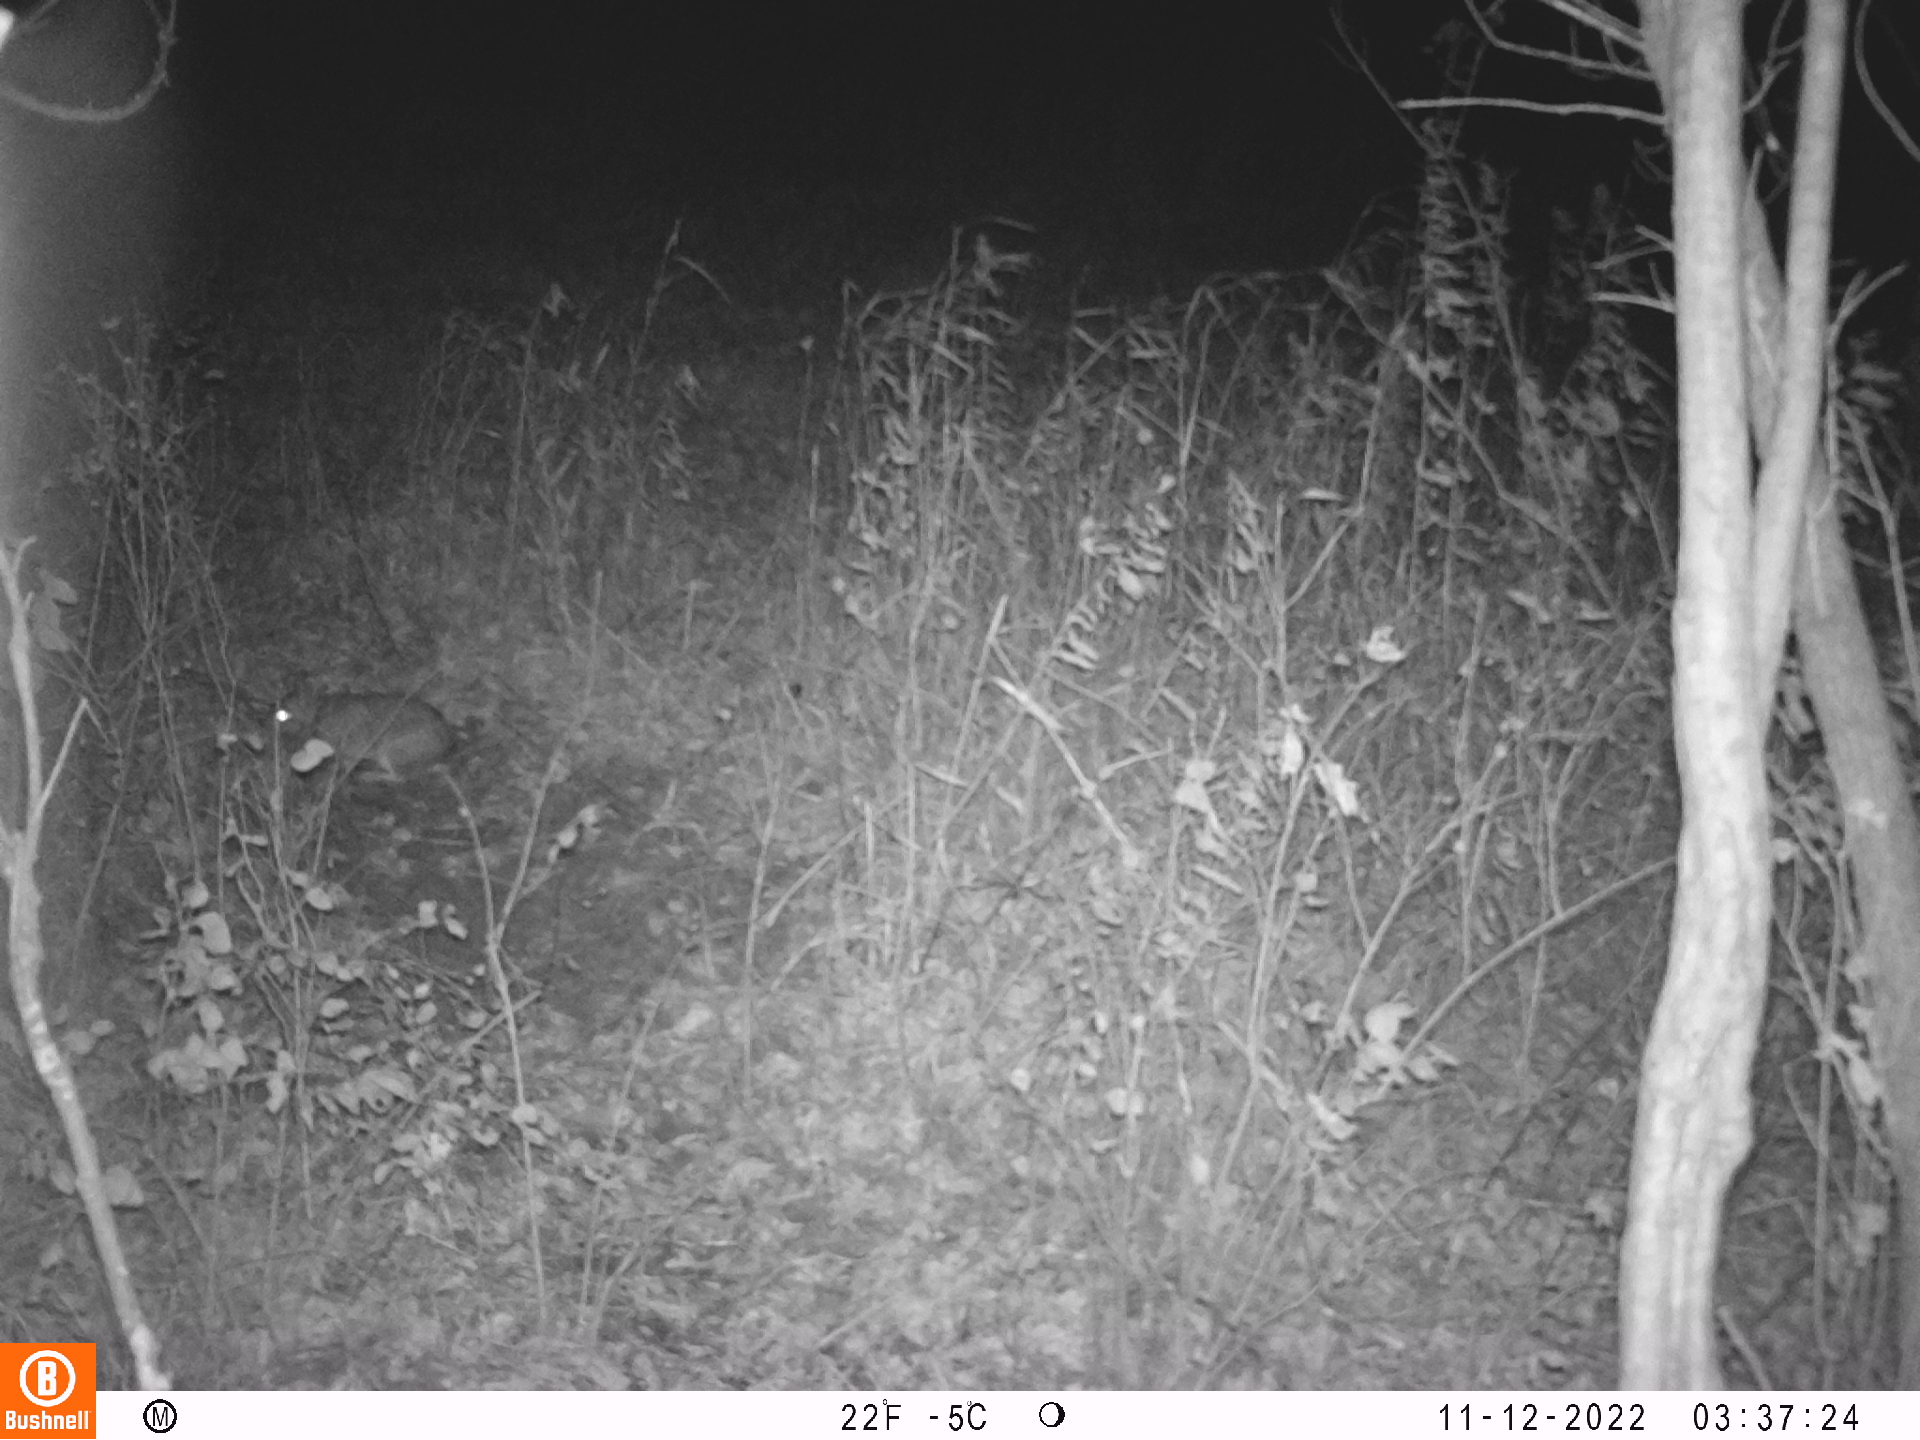Rabbit: (268, 666, 460, 777)
